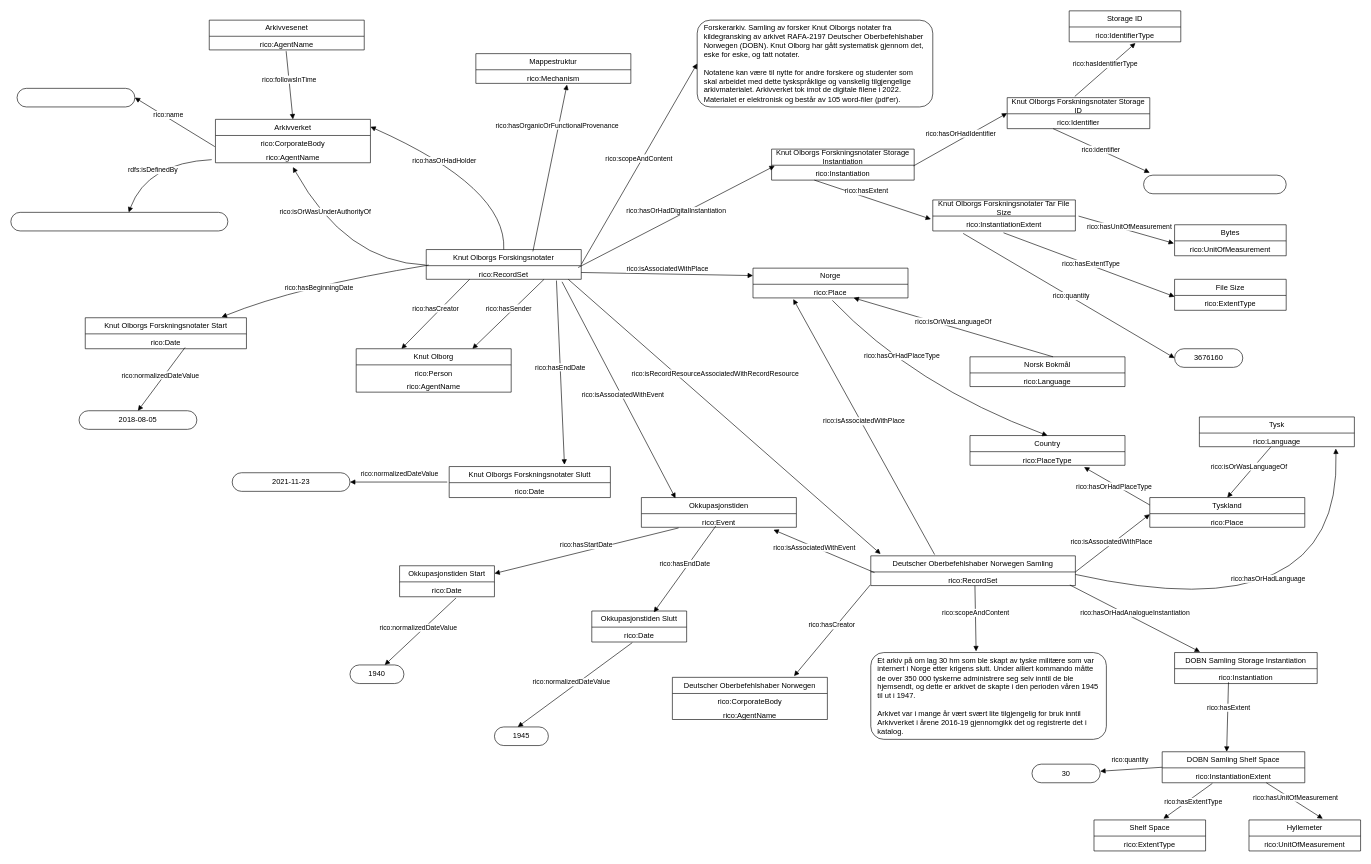
The diagram is 1371 pixels wide and 864 high, and some of its shapes have lost their labels. The shapes that lost their labels are listed below. From the top down, each one's centre as x and y in pixels, then its label:
At point 75,97: "National Archives of Norway".
At point 1214,184: "d6ef5d07-8b2e-4d7b-9590-a70381765c9a".
At point 119,221: "https://forvaltningsdatabasen.sikt.no/data/enhet/55009".
